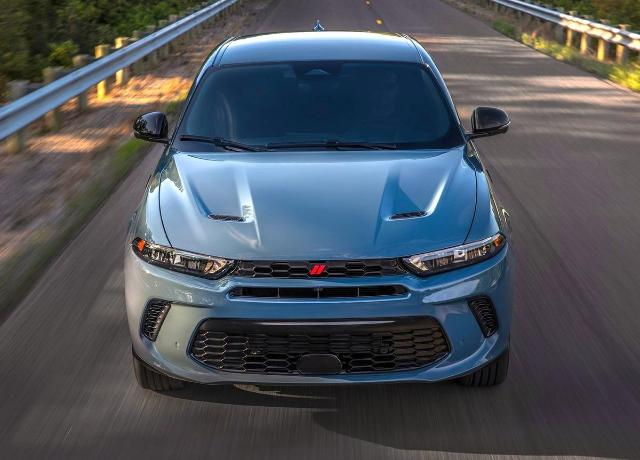dodge: (124, 18, 516, 388)
